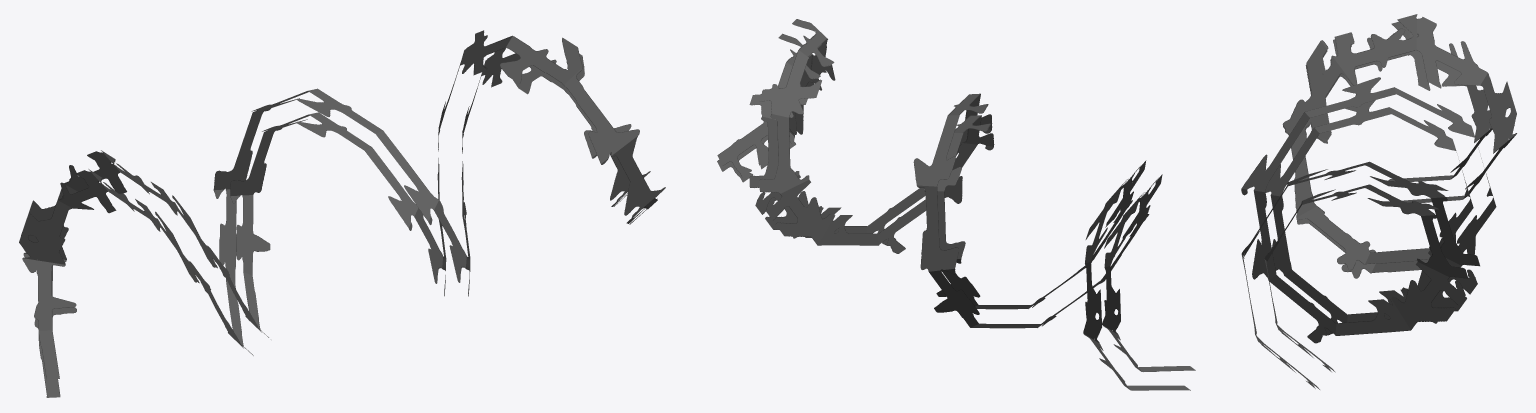
The model's file is barbeles.glb.
3 renders of one model, left to right at view 1: azimuth 30°, elevation 25°; view 2: azimuth 150°, elevation 25°; view 3: azimuth 270°, elevation 25°, orthographic. The views are drawn at different scales.
Visible parts, largest first — view 1: barbeles; view 2: barbeles; view 3: barbeles.
Part boxes in pixels (x1,y1,x2,y2): barbeles: [19, 30, 665, 397]; barbeles: [717, 19, 1195, 390]; barbeles: [1241, 14, 1516, 389].
Size of the model in its own units: 1.68 by 0.7305 by 0.7033.
1 material, 1 textured.
